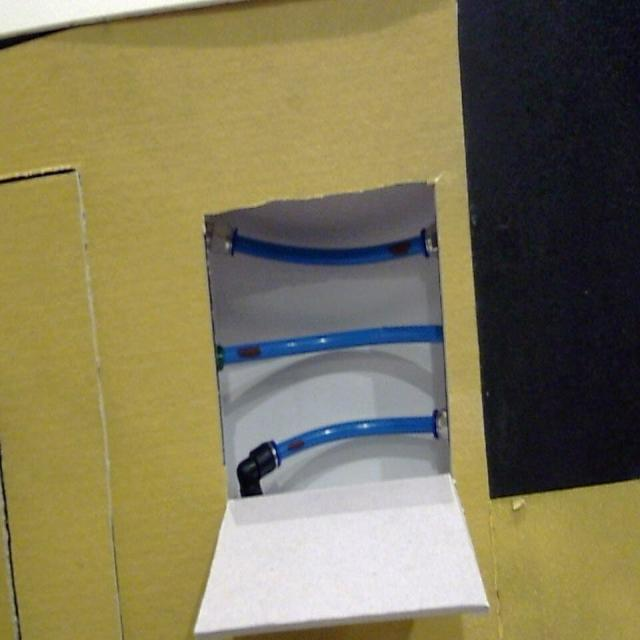hose_damage: (282, 435, 308, 457), (388, 238, 412, 258), (234, 344, 262, 360)
